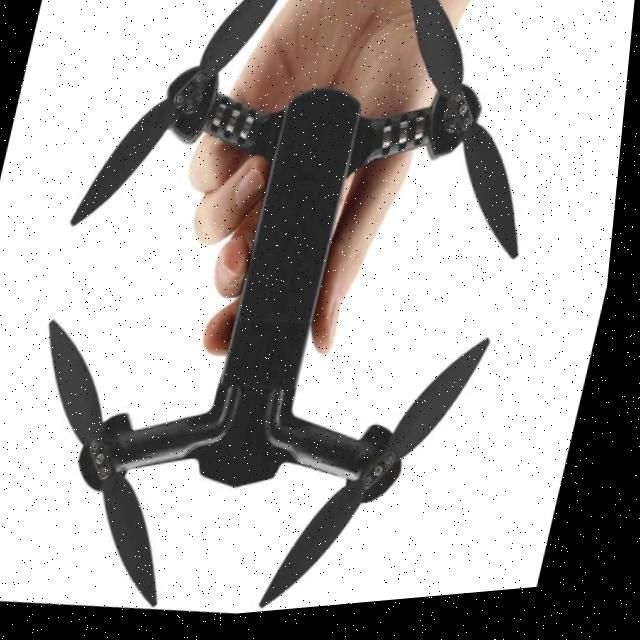drones: (0, 0, 595, 638)
